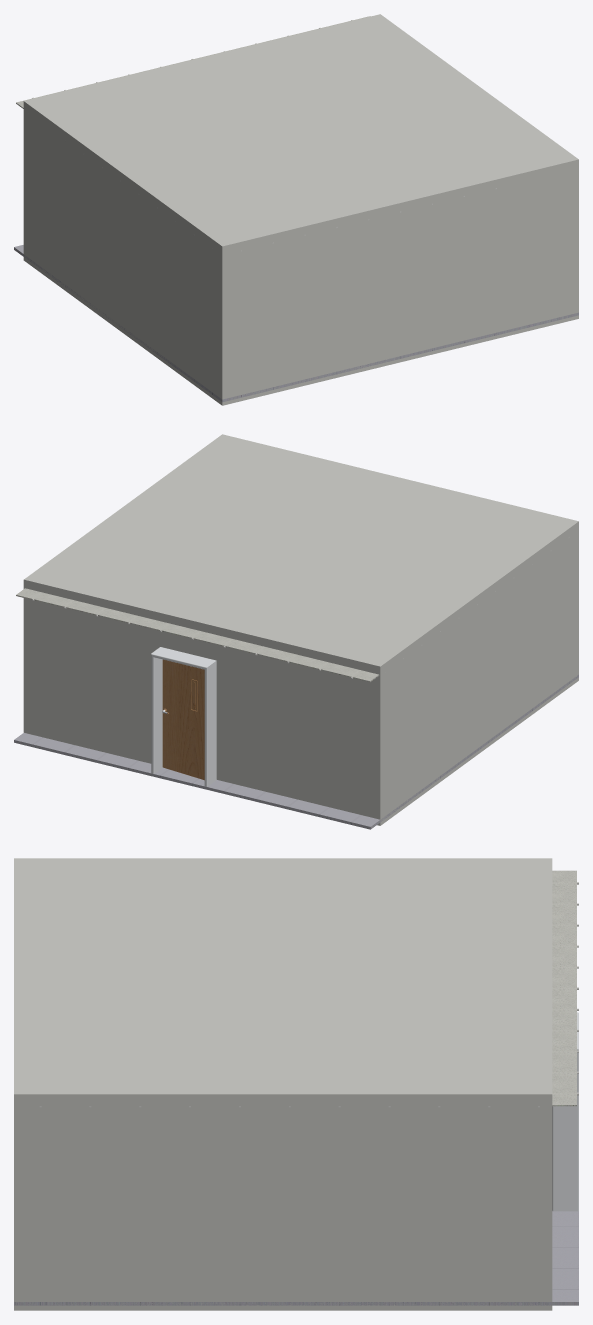
File: infinigen-primary-care-clinic.glb
3 renders of one model, top to bottom at view 1: azimuth 30°, elevation 25°; view 2: azimuth 150°, elevation 25°; view 3: azimuth 270°, elevation 25°, orthographic. The views are drawn at different scales.
Parts seen in each view (by area): view 1: bedroom_0/0.exterior, openclinxr_floor_field; view 2: bedroom_0/0.exterior, openclinxr_floor_field, bedroom_0/0.door_leaf, openclinxr_ceiling_tiles, bedroom_0/0.door_casing; view 3: bedroom_0/0.exterior, openclinxr_ceiling_tiles, openclinxr_floor_field, bedroom_0/0.door_casing.
Part boxes in pixels (box(x1,y1,x2,y2)): bedroom_0/0.exterior: box(23, 14, 578, 405); openclinxr_floor_field: box(14, 245, 578, 402); bedroom_0/0.exterior: box(23, 434, 578, 825); openclinxr_floor_field: box(14, 674, 578, 829); bedroom_0/0.door_leaf: box(162, 659, 204, 780); openclinxr_ceiling_tiles: box(16, 588, 379, 682); bedroom_0/0.door_casing: box(151, 647, 216, 786); bedroom_0/0.exterior: box(14, 858, 552, 1310); openclinxr_ceiling_tiles: box(552, 870, 576, 1106); openclinxr_floor_field: box(14, 1211, 578, 1305); bedroom_0/0.door_casing: box(552, 1012, 578, 1211).
Bounding box in the file's own units: 6.72 × 2.87 × 6.8.
17 materials, 10 textured.
